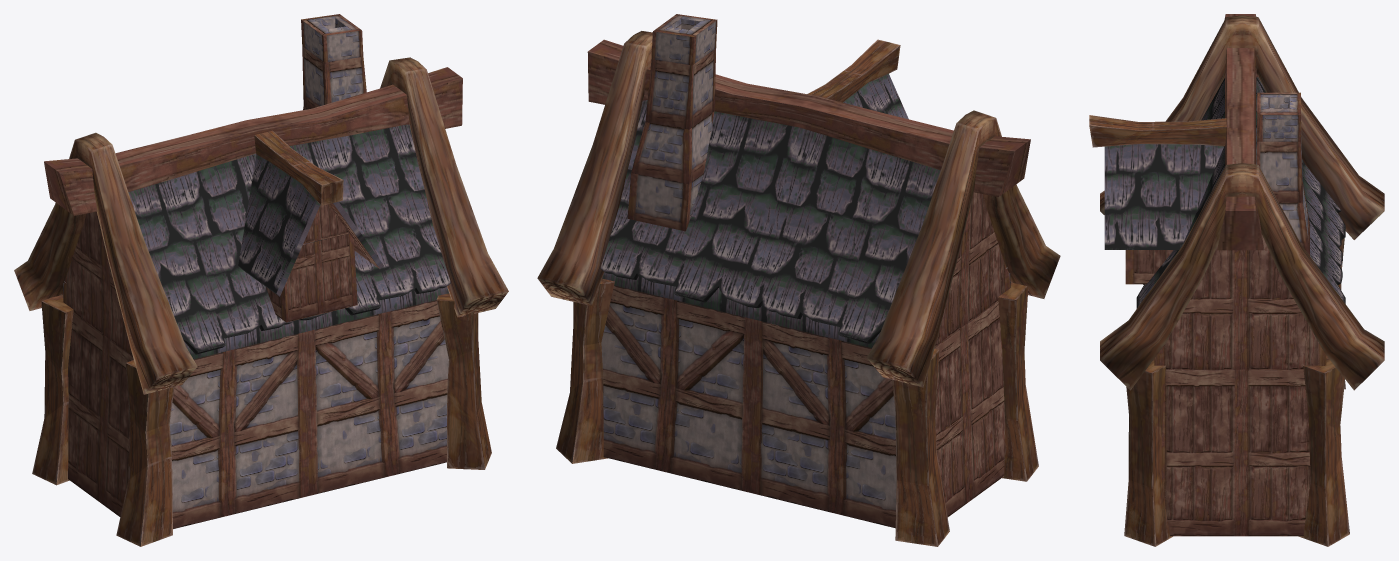
Rendered from house02.fbx.
3 renders of one model, left to right at view 1: azimuth 30°, elevation 25°; view 2: azimuth 150°, elevation 25°; view 3: azimuth 270°, elevation 25°, orthographic. The views are drawn at different scales.
Parts seen in each view (by area): view 1: Cube; view 2: Cube; view 3: Cube.
Boxes of the visible parts, x1,y1,x2,y2 form: Cube: (14, 14, 508, 546); Cube: (537, 14, 1060, 546); Cube: (1089, 14, 1384, 546).
Bounding box in the file's own units: 397 × 383 × 257.
